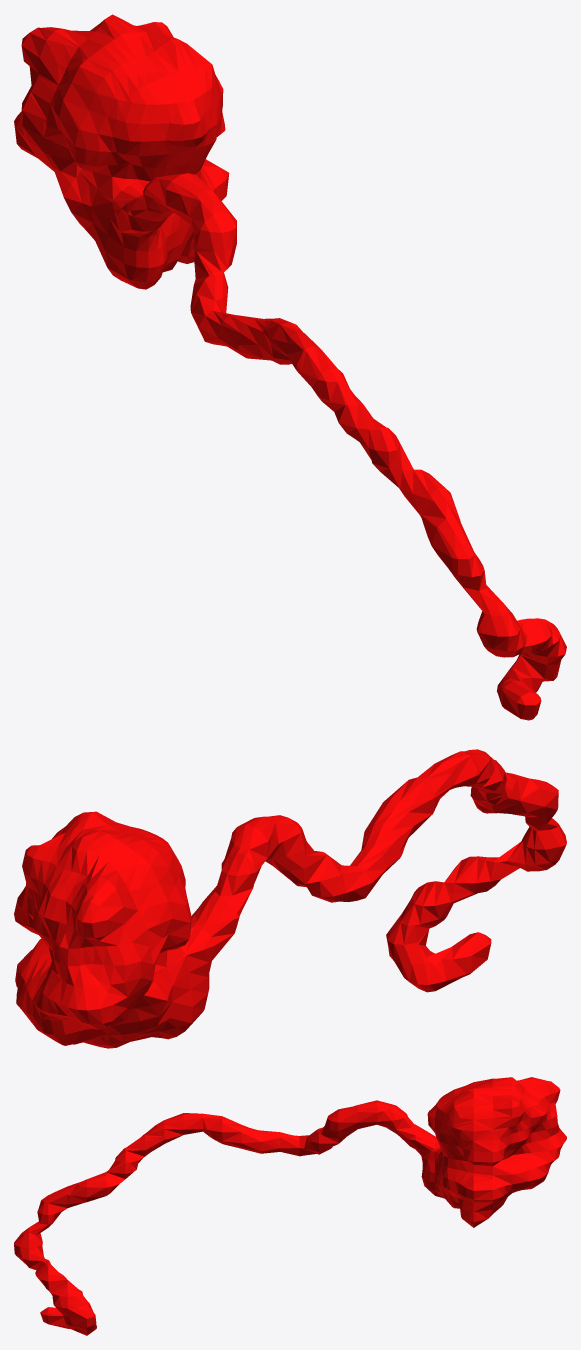
The model's file is nlpD_coarse.dae.
3 views of the same model, one above another, from view 1: azimuth 30°, elevation 25°; view 2: azimuth 150°, elevation 25°; view 3: azimuth 270°, elevation 25° (orthographic). The views are drawn at different scales.
Visible parts, largest first — view 1: nlpD; view 2: nlpD; view 3: nlpD.
Part boxes in pixels (left/top/right/bottom): nlpD: left=14, top=14, right=566, bottom=720; nlpD: left=14, top=749, right=566, bottom=1048; nlpD: left=14, top=1077, right=566, bottom=1335.
Bounding box in the file's own units: 48.69 × 108 × 219.
